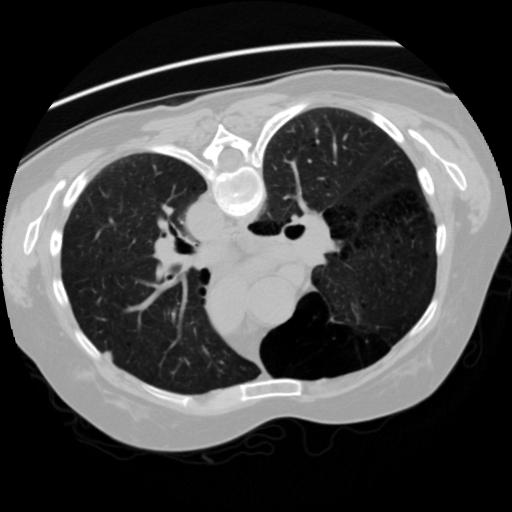nodule: (102, 348, 118, 364)
